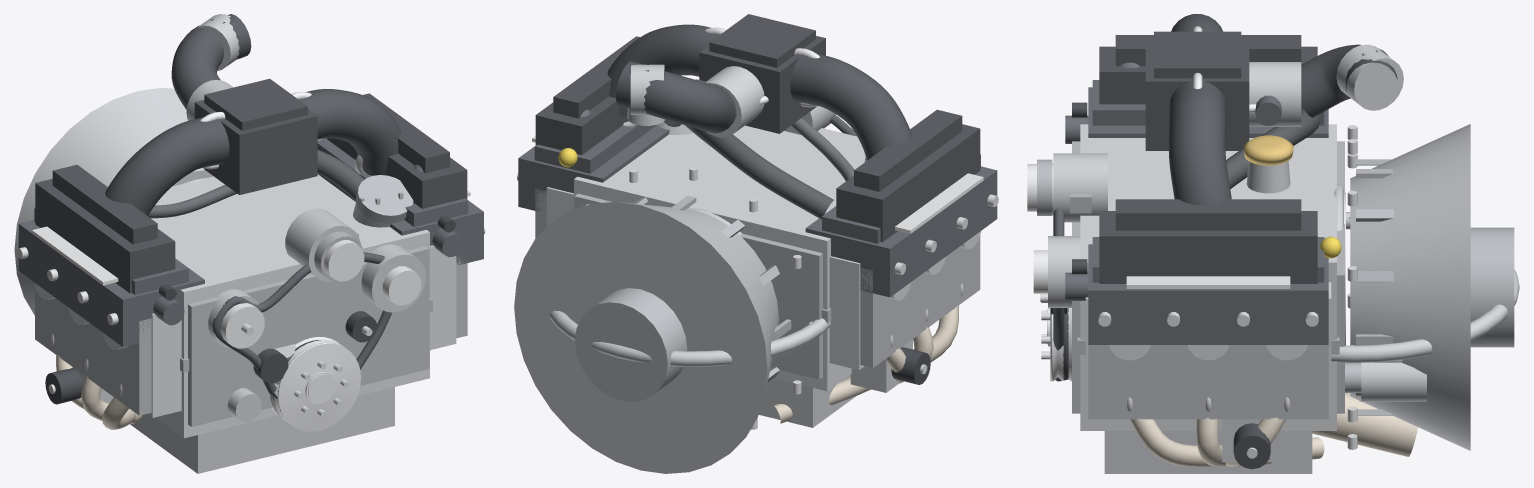
Rendered from engine.glb.
The picture shows the model from 3 angles, left to right: view 1: azimuth 30°, elevation 25°; view 2: azimuth 150°, elevation 25°; view 3: azimuth 270°, elevation 25°; orthographic projection. The views are drawn at different scales.
Visible parts, largest first — view 1: crankcaseMain, crankcaseWebFront, bellTaper, oilPan, headDeck_L, camCoverBody_L, plenumBox, intakeTube_L, plenumCap_L, crankPulleyDisc, intakeTube_R, plenumCapCrown_L (+33 smaller); view 2: bellTaper, crankcaseMain, bellSnout, camCoverBody_L, headDeck_L, intakeTube_L, plenumCap_L, crankcaseWebRear, intakeSnorkel, plenumBox, intakeTube_R, plenumCapCrown_L (+20 smaller); view 3: bellTaper, headDeck_R, camCoverBody_R, crankcaseMain, plenumCap_R, intakeTube_R, plenumCapCrown_R, oilPan, bellSnout, plenumBox, plenumBoxLid, mafBody (+32 smaller).
Part boxes in pixels (left/top/right/bottom): crankcaseMain: left=151, top=174, right=429, bottom=438; crankcaseWebFront: left=188, top=246, right=429, bottom=426; bellTaper: left=14, top=87, right=213, bottom=315; oilPan: left=130, top=387, right=394, bottom=473; headDeck_L: left=35, top=286, right=151, bottom=415; camCoverBody_L: left=18, top=220, right=204, bottom=346; plenumBox: left=194, top=100, right=317, bottom=194; intakeTube_L: left=105, top=117, right=229, bottom=215; plenumCap_L: left=35, top=179, right=175, bottom=293; crankPulleyDisc: left=270, top=337, right=360, bottom=431; intakeTube_R: left=299, top=89, right=400, bottom=175; plenumCapCrown_L: left=52, top=164, right=157, bottom=244; bellTaper: left=514, top=202, right=778, bottom=473; crankcaseMain: left=574, top=125, right=865, bottom=391; bellSnout: left=575, top=288, right=687, bottom=401; camCoverBody_L: left=805, top=166, right=997, bottom=297; headDeck_L: left=860, top=235, right=980, bottom=367; intakeTube_L: left=790, top=54, right=911, bottom=160; plenumCap_L: left=836, top=124, right=980, bottom=242; crankcaseWebRear: left=574, top=193, right=822, bottom=379; intakeSnorkel: left=616, top=61, right=736, bottom=133; plenumBox: left=699, top=36, right=825, bottom=133; intakeTube_R: left=607, top=24, right=718, bottom=117; plenumCapCrown_L: left=854, top=109, right=962, bottom=191; bellTaper: left=1350, top=124, right=1470, bottom=450; headDeck_R: left=1088, top=345, right=1328, bottom=419; camCoverBody_R: left=1088, top=244, right=1328, bottom=344; crankcaseMain: left=1080, top=124, right=1336, bottom=430; plenumCap_R: left=1099, top=211, right=1317, bottom=283; intakeTube_R: left=1168, top=78, right=1231, bottom=205; plenumCapCrown_R: left=1115, top=199, right=1301, bottom=230; oilPan: left=1104, top=431, right=1312, bottom=473; bellSnout: left=1470, top=227, right=1514, bottom=347; plenumBox: left=1145, top=38, right=1249, bottom=150; plenumBoxLid: left=1154, top=31, right=1241, bottom=78; mafBody: left=1336, top=44, right=1403, bottom=110.
Size of the model in its own units: 4.54 by 4.28 by 4.51.
